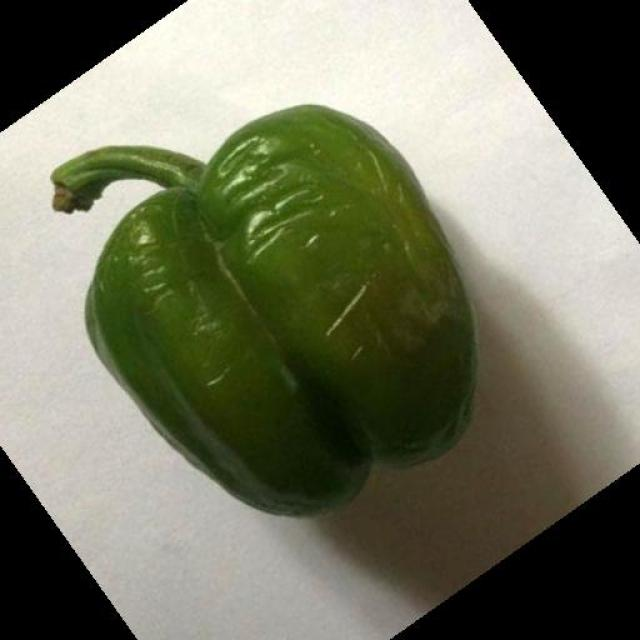Stale_Capsicum: (59, 114, 504, 519)
